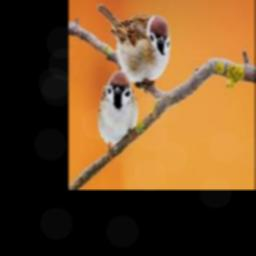Sparrow: (97, 4, 170, 93), (98, 70, 139, 162)
